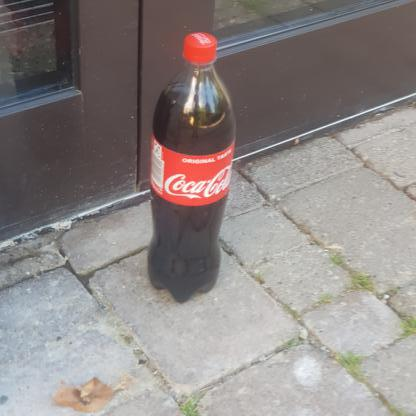coca-cola: (143, 30, 237, 307)
